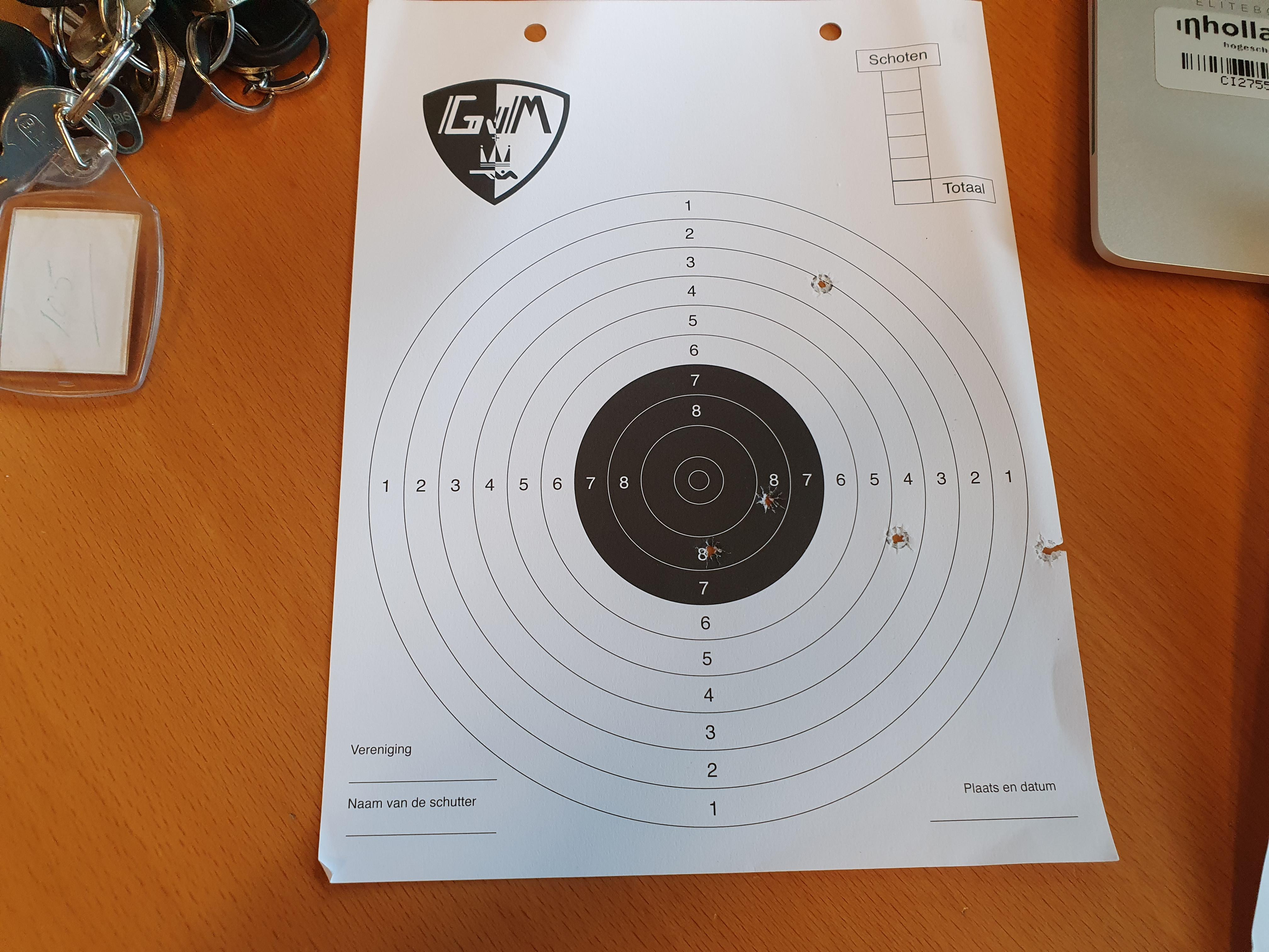hole: (515, 773, 558, 800), (512, 522, 555, 548), (532, 662, 574, 687), (584, 566, 622, 591), (873, 606, 909, 627)
